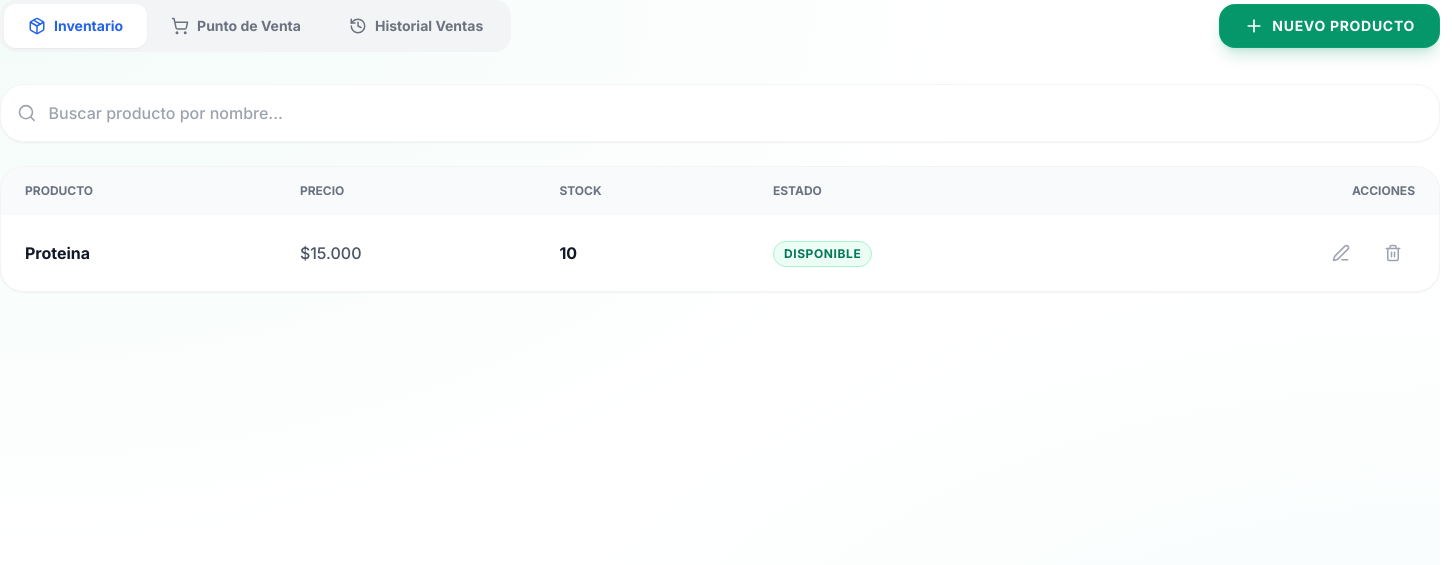
Scenario: ProductsPage - búsqueda de cliente con dni null (AC-0002-11) › busca por nombre sin romper y deja el cliente elegido en el campo
Click the button "Punto de Venta".
click(236, 26)  # box x1=147 y1=4 x2=325 y2=48
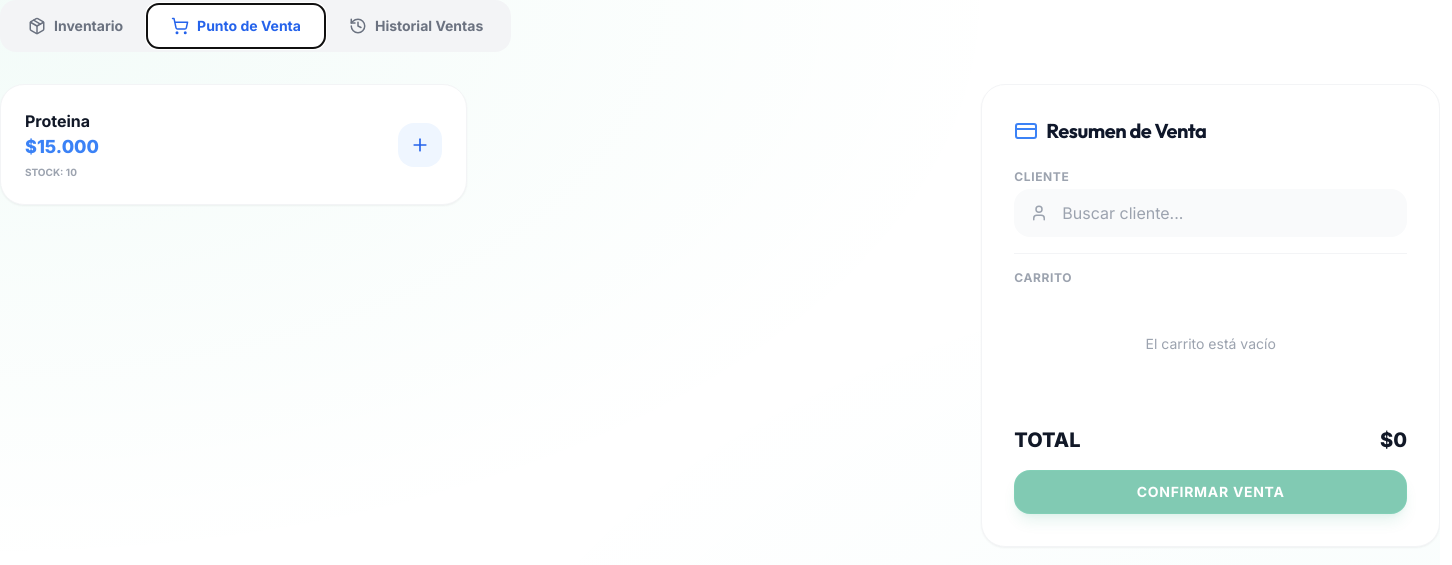
expect the field with placeholder "Buscar cliente..." is shown: met
Type "Marina" into the field with placeholder "Buscar cliente...".
click(1211, 213); type("Marina")  # box x1=1014 y1=189 x2=1407 y2=237
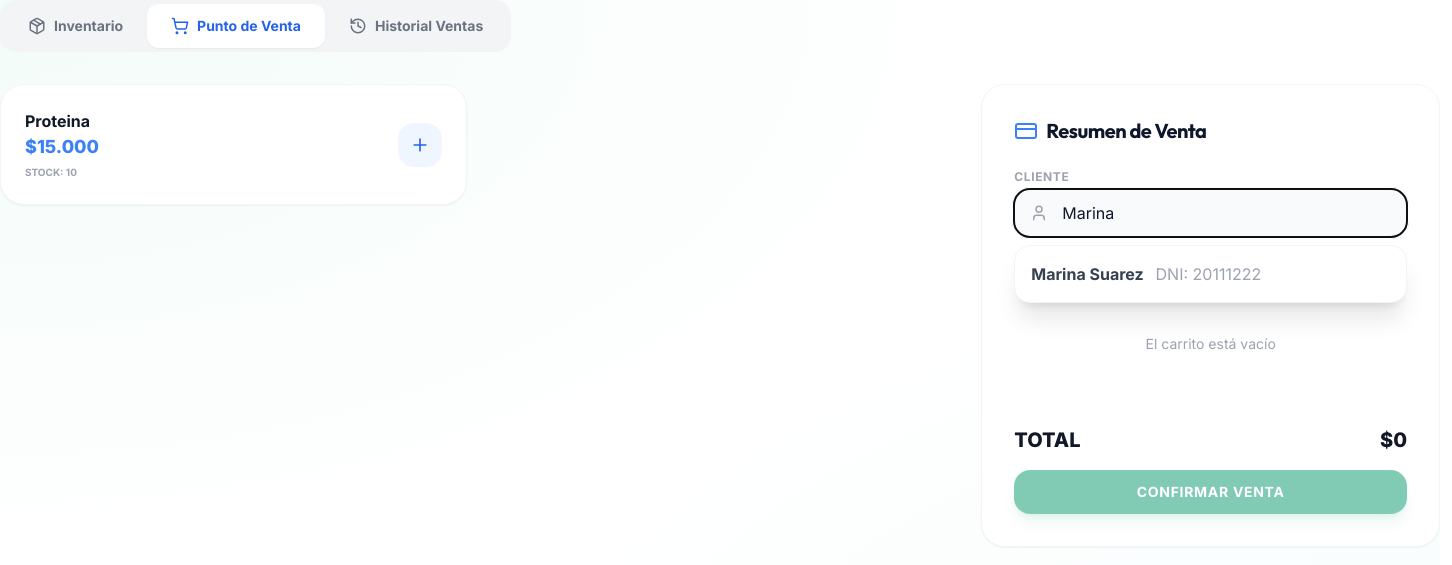
Click the button "Marina Suarez DNI: 20111222".
click(1211, 274)  # box x1=1015 y1=246 x2=1406 y2=302
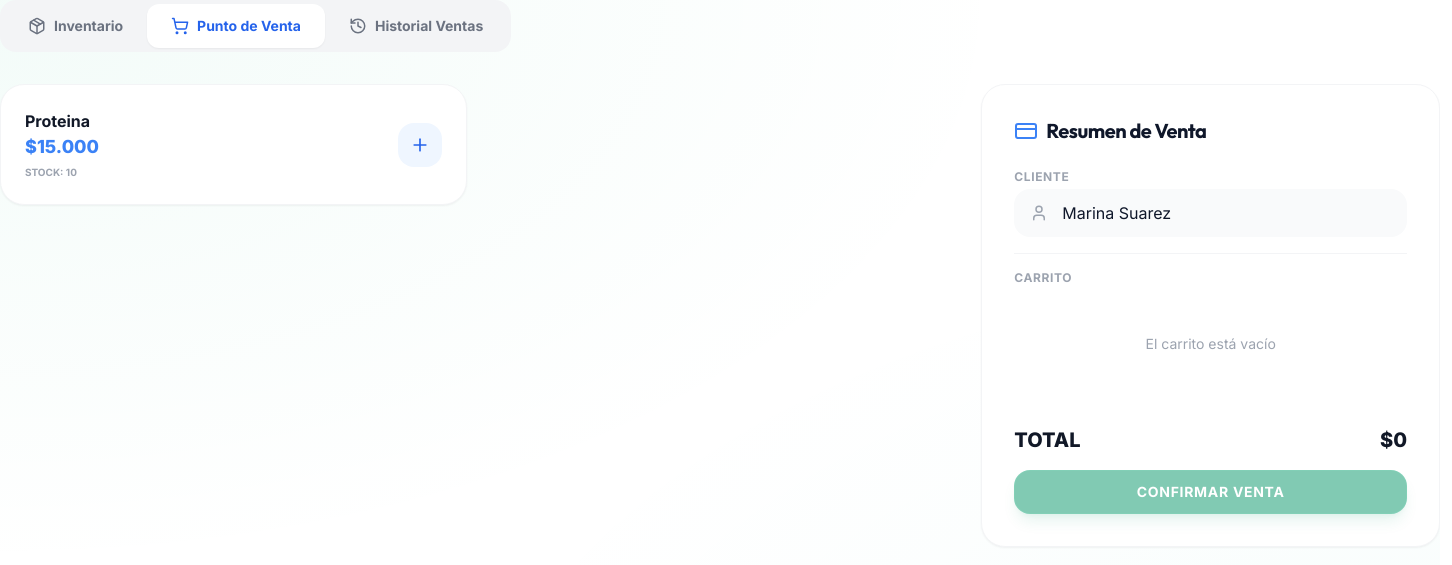
expect the field with placeholder "Buscar cliente..." holds "Marina Suarez": met, box x1=1014 y1=189 x2=1407 y2=237
